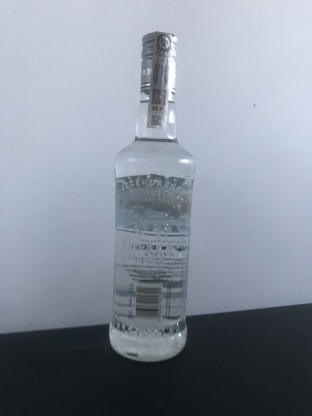nakretka: (138, 28, 179, 97)
